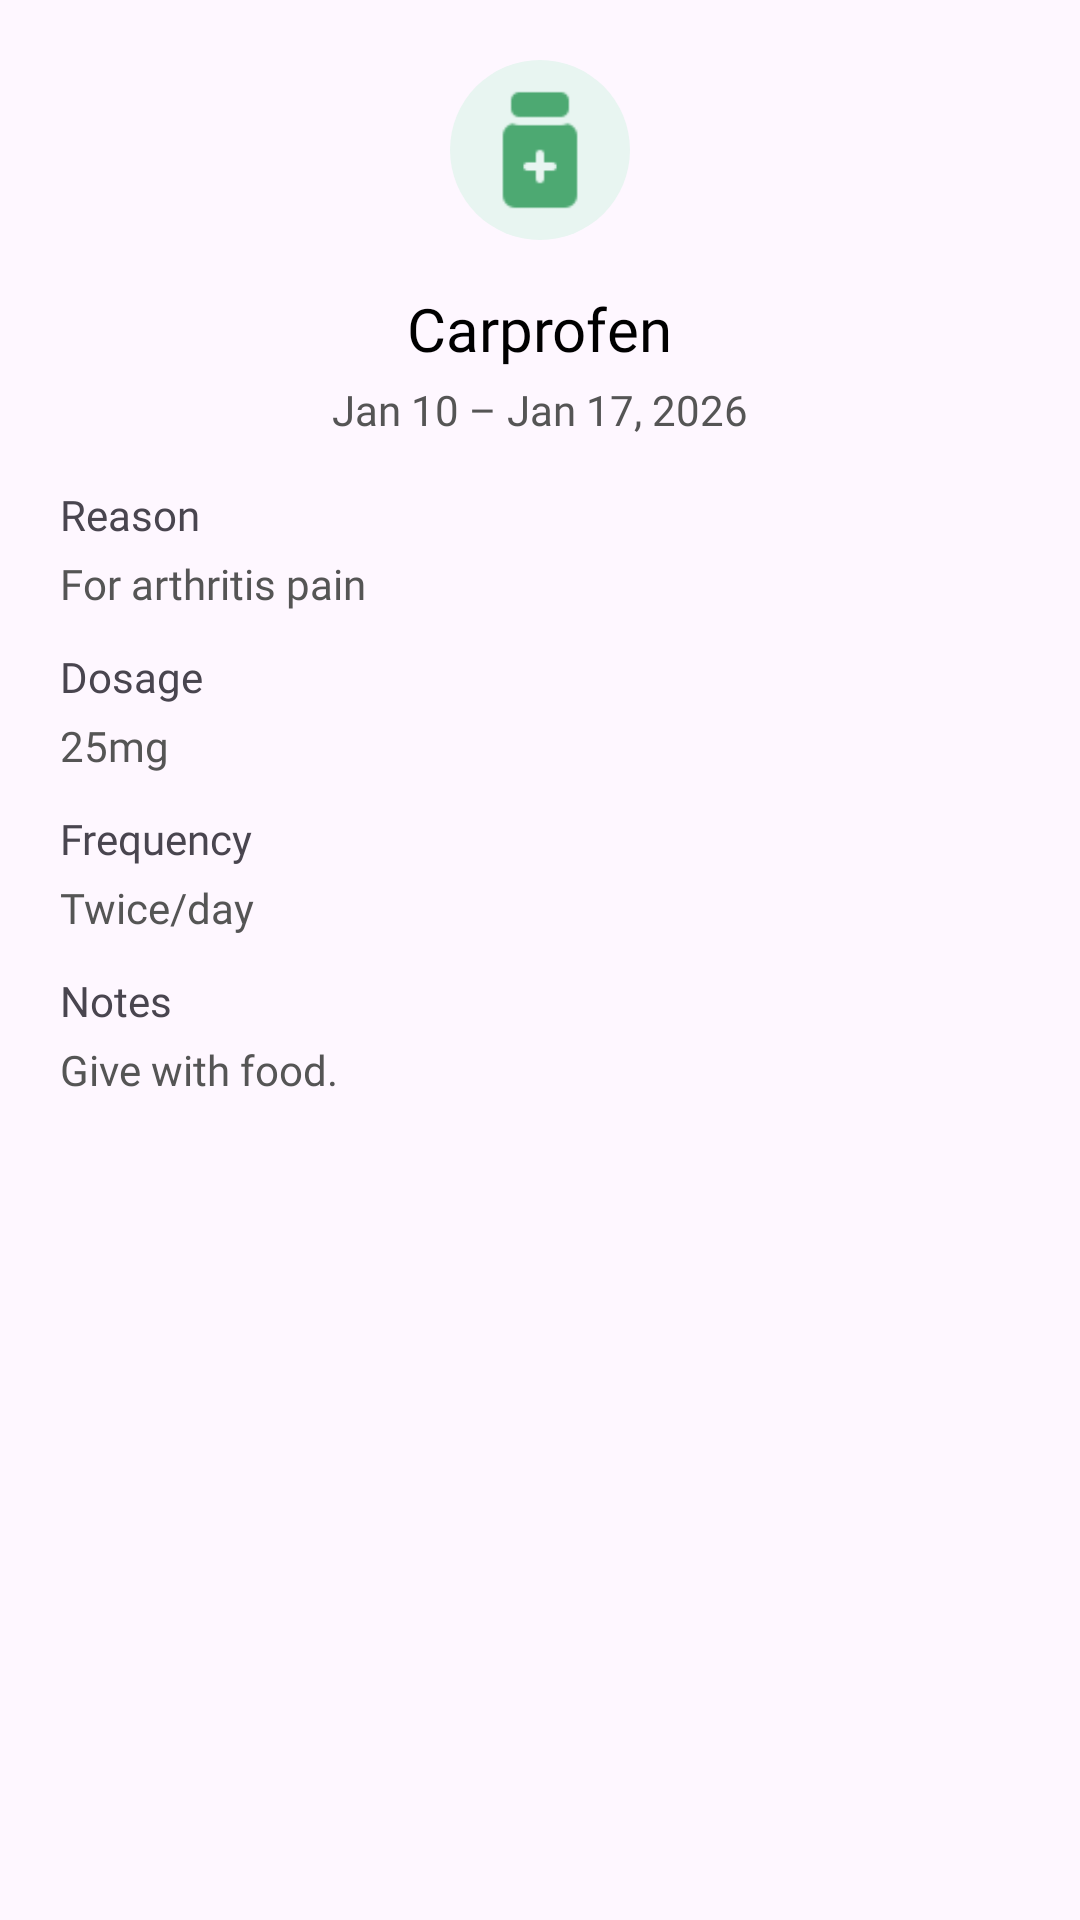

Icons on this 1080px×1920px Android screen, each with the point to tap as point (x, y):
medicine: point (540, 150)
